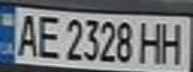2: (60, 15, 84, 62), (97, 17, 118, 63)
3: (78, 16, 103, 63)
8: (115, 17, 139, 64)
A: (12, 10, 42, 57)
E: (33, 11, 63, 60)
H: (157, 18, 190, 65), (136, 18, 166, 65)
